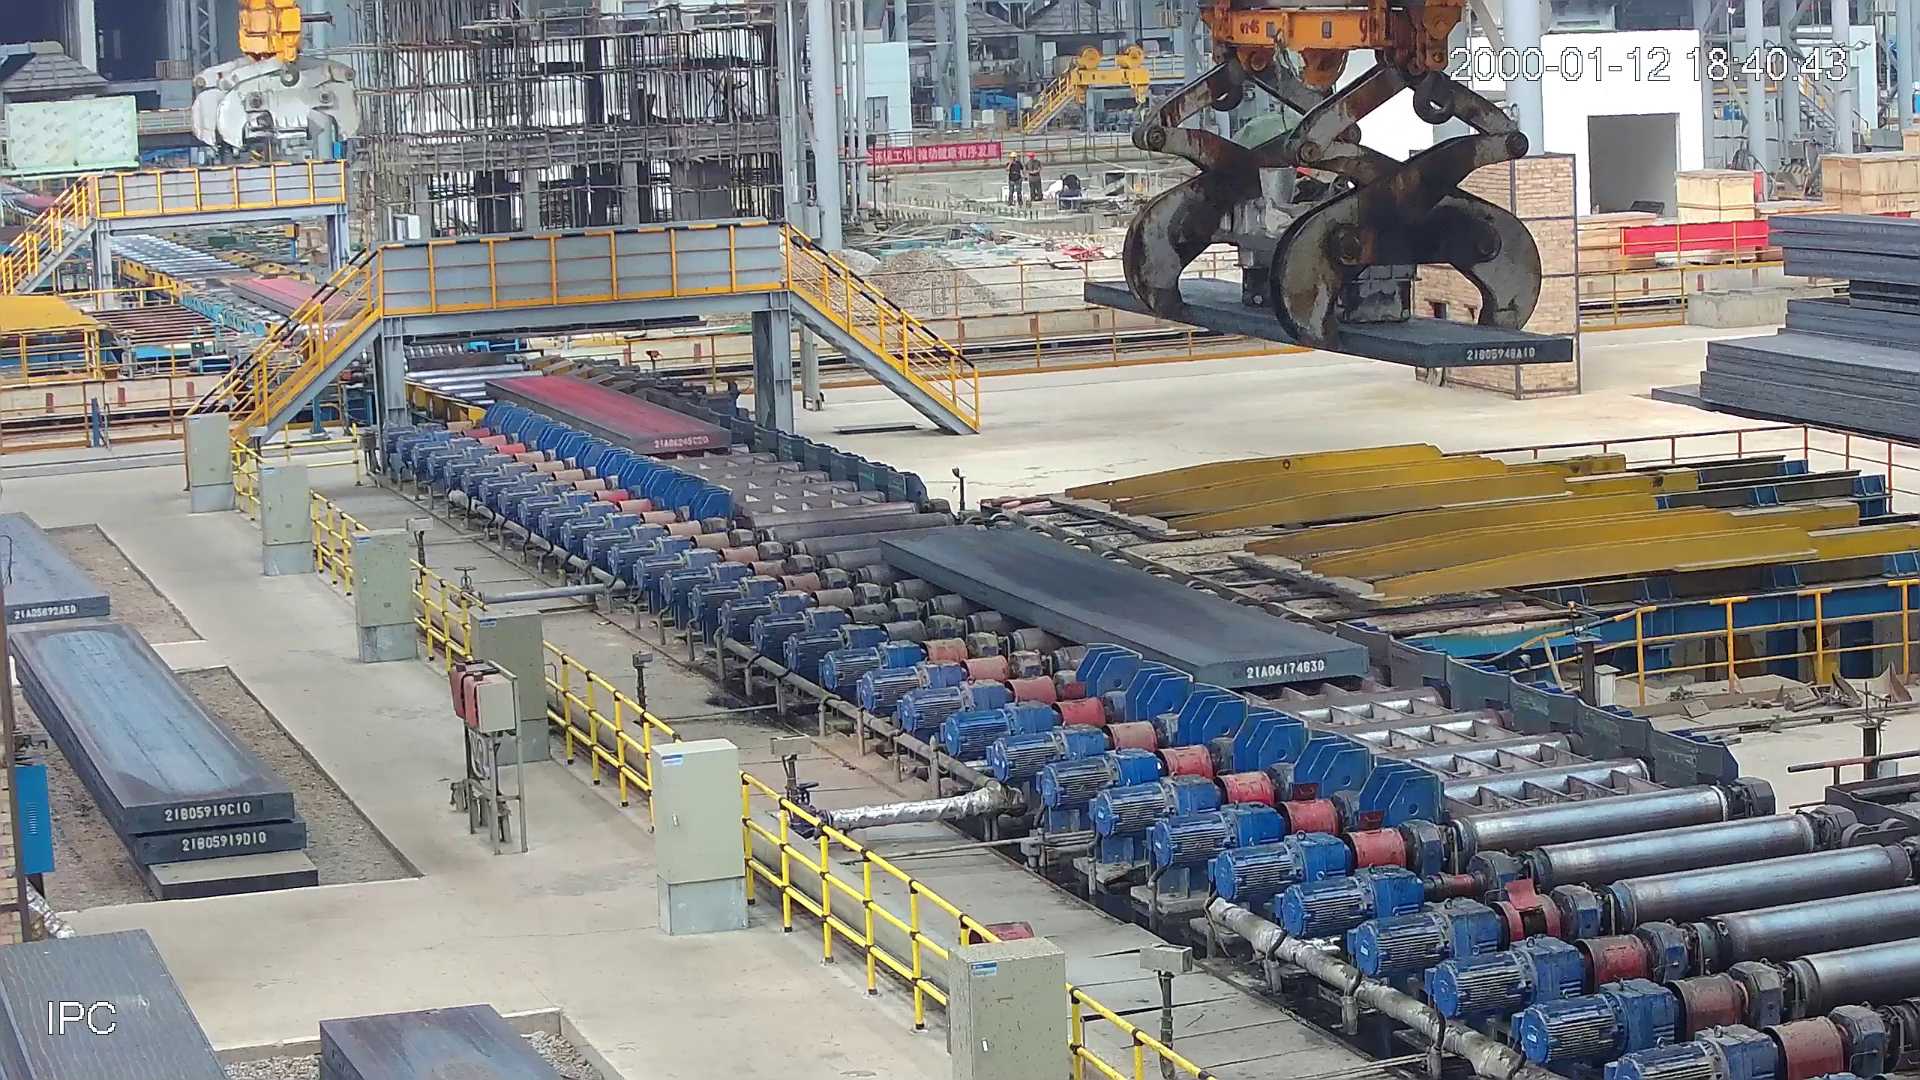crane: (186, 1, 369, 156)
craneandslab: (1069, 1, 1582, 377)
slab: (860, 518, 1375, 702), (475, 369, 740, 456), (225, 276, 373, 324)
